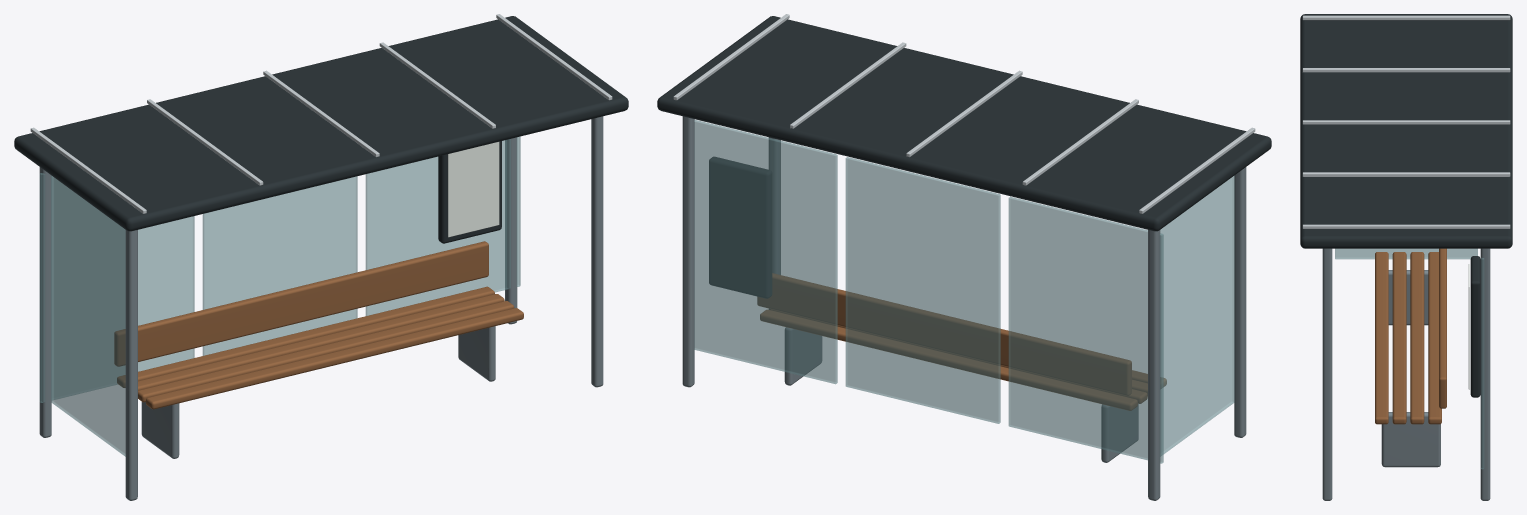
File: shelter.glb
3 views of the same model, side by side, from view 1: azimuth 30°, elevation 25°; view 2: azimuth 150°, elevation 25°; view 3: azimuth 270°, elevation 25° (orthographic). The views are drawn at different scales.
Visible parts, largest first — view 1: Shelter roof, Rear glass, Side glass, Rear glass.001, Bench back, Rear glass.002, Bench timber slat, Route sheet, Bench timber slat.001, Bench timber slat.003, Bench timber slat.002, Shelter column (+11 smaller); view 2: Shelter roof, Rear glass.001, Rear glass, Rear glass.002, Side glass, Bench back, Information panel, Bench timber slat.003, Shelter column.001, Shelter column.003, Shelter column, Bench legs (+8 smaller); view 3: Shelter roof, Bench legs.001, Shelter column.002, Shelter column.003, Bench timber slat.001, Bench timber slat.002, Bench timber slat, Bench timber slat.003, Information panel, Bench back, Roof rib, Side glass (+7 smaller).
Boxes of the visible parts, x1=… form: Shelter roof: x1=14, y1=16, x2=628, y2=231; Rear glass: x1=39, y1=173, x2=194, y2=402; Side glass: x1=51, y1=175, x2=125, y2=456; Rear glass.001: x1=202, y1=176, x2=357, y2=355; Bench back: x1=114, y1=241, x2=488, y2=366; Rear glass.002: x1=365, y1=136, x2=520, y2=315; Bench timber slat: x1=146, y1=308, x2=523, y2=409; Route sheet: x1=448, y1=142, x2=499, y2=237; Bench timber slat.001: x1=138, y1=301, x2=514, y2=402; Bench timber slat.003: x1=117, y1=286, x2=494, y2=387; Bench timber slat.002: x1=138, y1=294, x2=504, y2=390; Shelter column: x1=125, y1=230, x2=137, y2=500; Shelter roof: x1=657, y1=16, x2=1271, y2=231; Rear glass.001: x1=845, y1=157, x2=1000, y2=423; Rear glass: x1=1008, y1=196, x2=1163, y2=463; Rear glass.002: x1=694, y1=120, x2=837, y2=384; Side glass: x1=1160, y1=175, x2=1234, y2=455; Bench back: x1=757, y1=273, x2=1131, y2=395; Information panel: x1=709, y1=157, x2=771, y2=298; Bench timber slat.003: x1=760, y1=310, x2=1137, y2=410; Shelter column.001: x1=1148, y1=230, x2=1160, y2=500; Shelter column.003: x1=682, y1=116, x2=694, y2=387; Shelter column: x1=1234, y1=167, x2=1246, y2=437; Bench legs: x1=1101, y1=404, x2=1138, y2=462; Shelter roof: x1=1300, y1=14, x2=1512, y2=248; Bench legs.001: x1=1381, y1=412, x2=1440, y2=467; Shelter column.002: x1=1322, y1=248, x2=1332, y2=500; Shelter column.003: x1=1480, y1=248, x2=1490, y2=500; Bench timber slat.001: x1=1392, y1=252, x2=1406, y2=424; Bench timber slat.002: x1=1410, y1=252, x2=1424, y2=424; Bench timber slat: x1=1375, y1=252, x2=1388, y2=424; Bench timber slat.003: x1=1428, y1=252, x2=1441, y2=424; Information panel: x1=1470, y1=256, x2=1480, y2=397; Bench back: x1=1439, y1=248, x2=1446, y2=408; Roof rib: x1=1302, y1=15, x2=1510, y2=20; Side glass: x1=1335, y1=248, x2=1477, y2=259.
Bounding box in the file's own units: 5.4 × 3.07 × 2.15.
